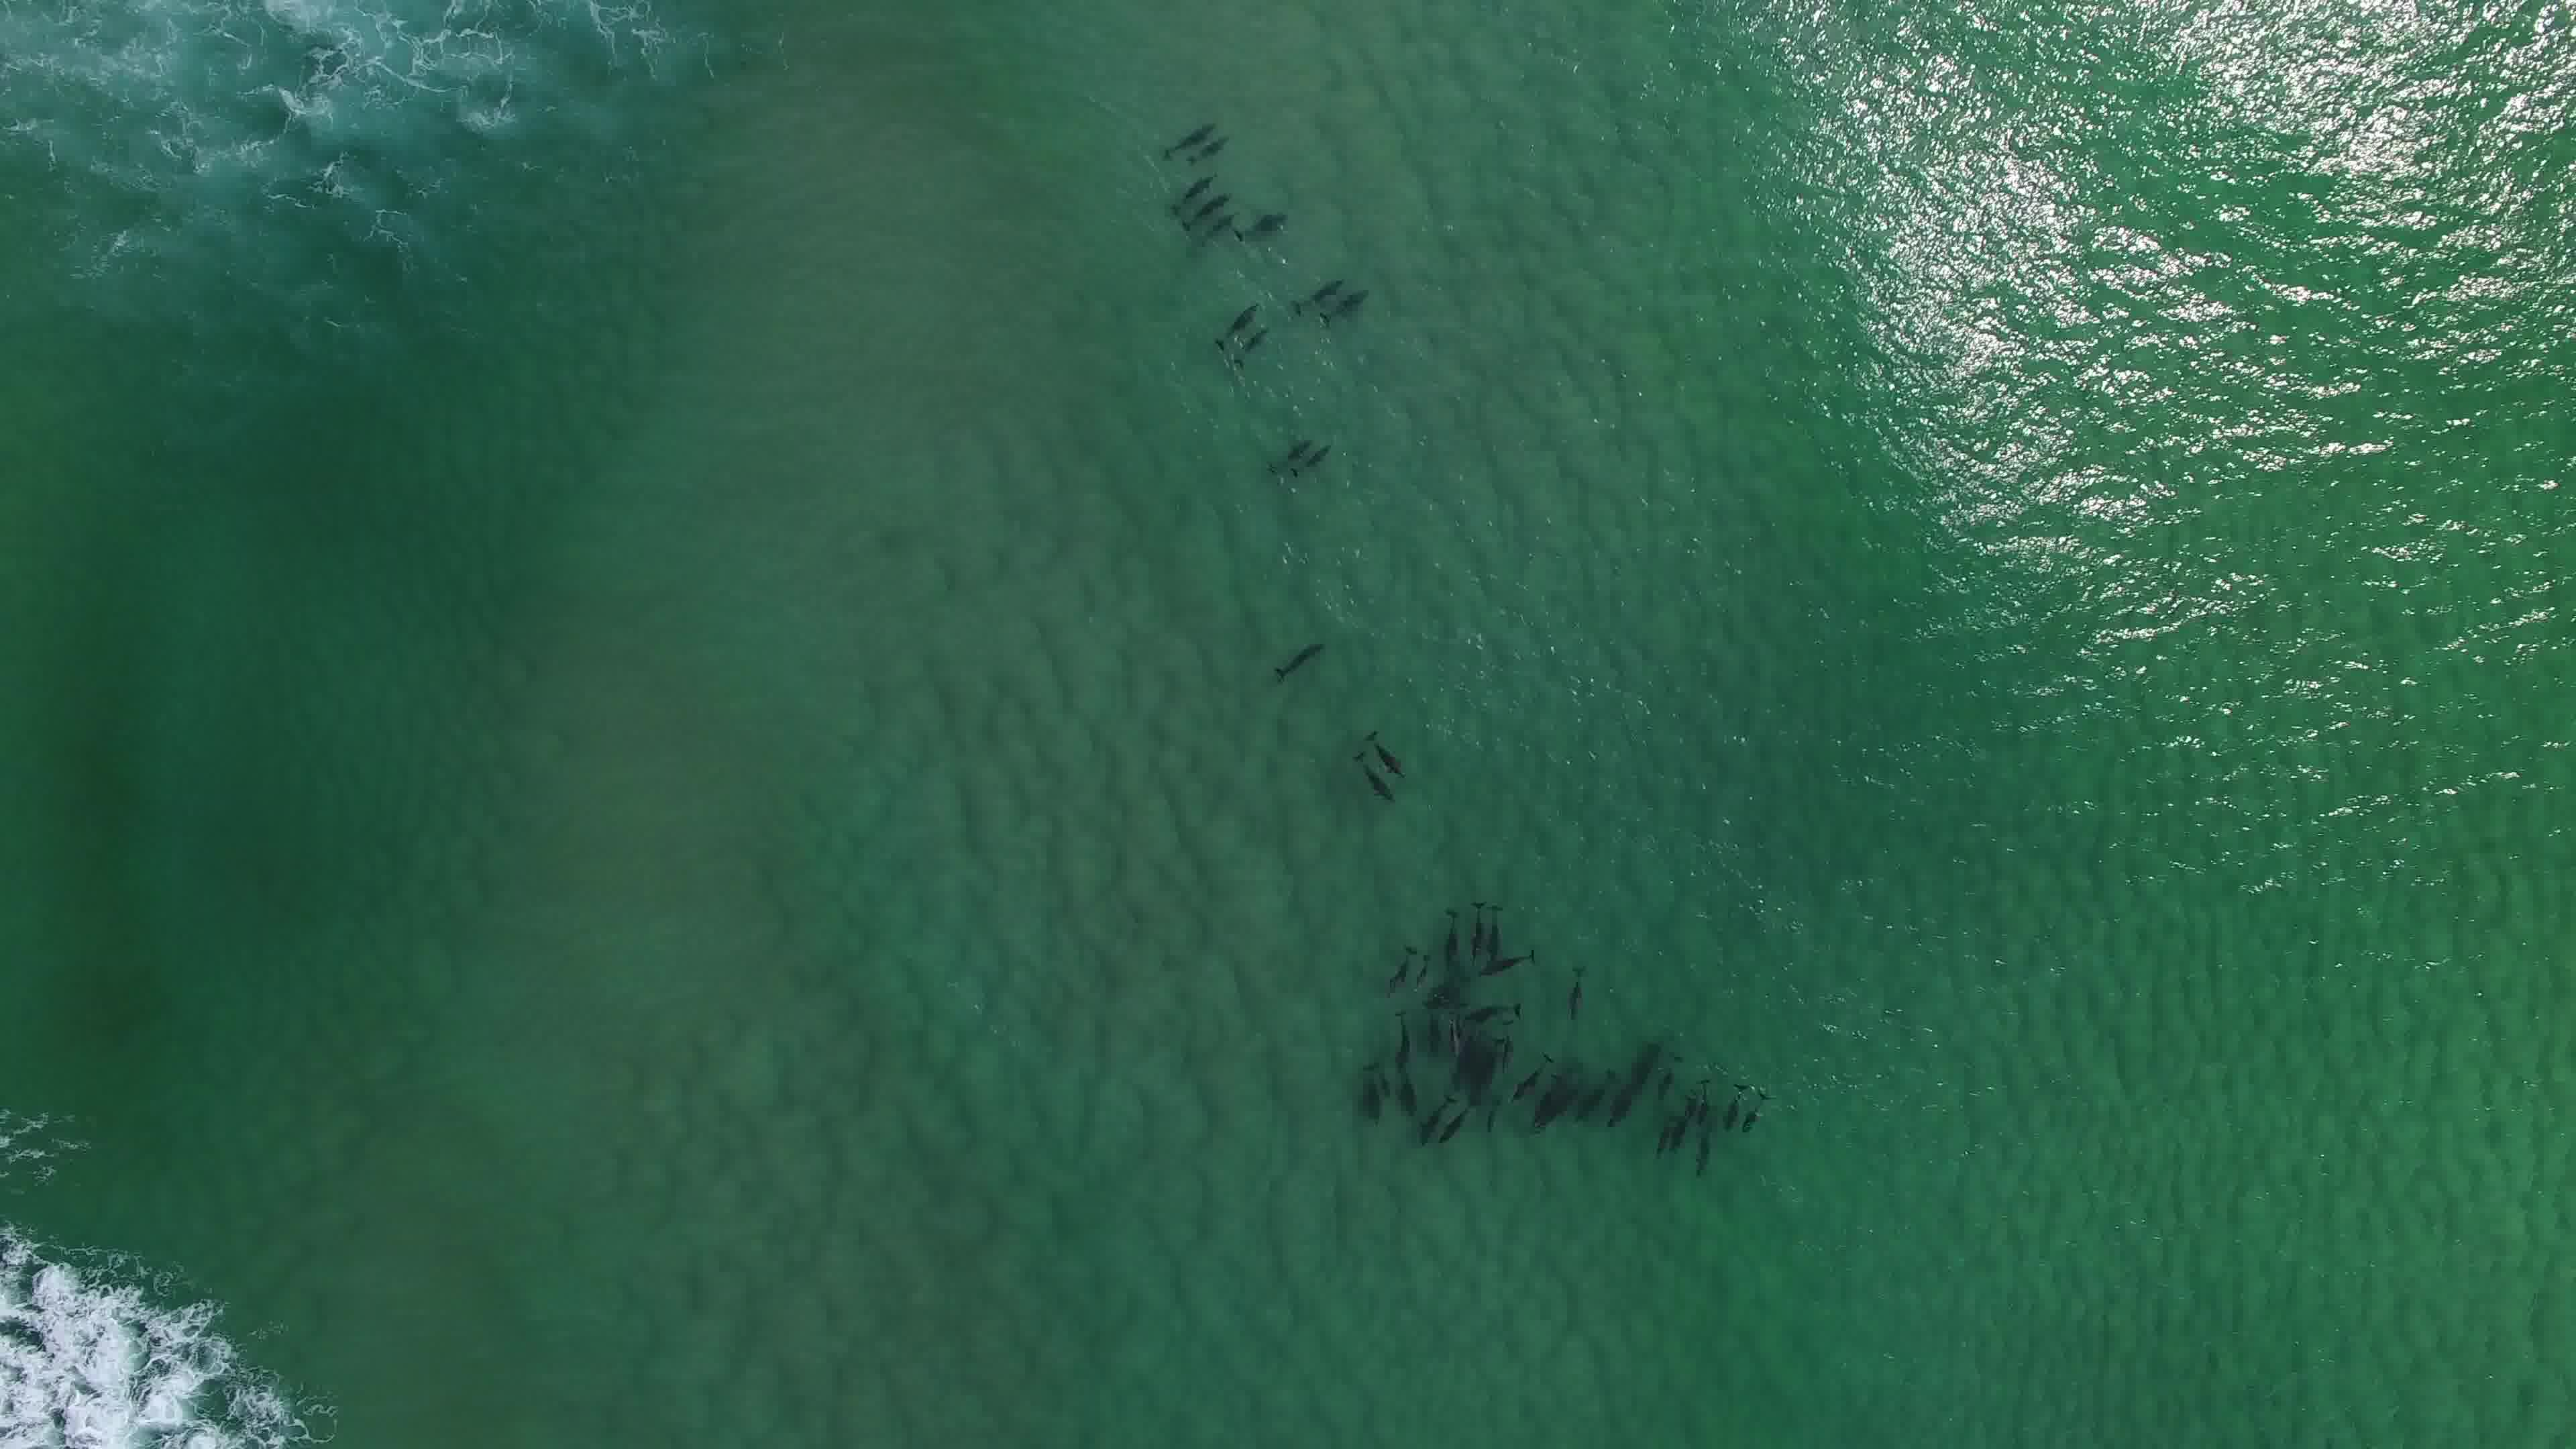dolphin: (1603, 1047, 1660, 1123), (1334, 743, 1396, 801), (1154, 108, 1219, 156), (1366, 936, 1417, 994), (1460, 991, 1527, 1033), (1361, 727, 1414, 780), (1534, 1063, 1575, 1132), (1201, 292, 1258, 341), (1270, 640, 1332, 685), (1477, 936, 1539, 980), (1506, 1047, 1562, 1095), (1578, 1065, 1622, 1118), (1315, 285, 1375, 324), (1230, 205, 1295, 241), (1161, 172, 1226, 207), (1408, 1092, 1458, 1138), (1560, 955, 1594, 1023), (1437, 1100, 1484, 1146), (1256, 430, 1307, 472), (1357, 1065, 1396, 1118), (1739, 1086, 1775, 1141), (1484, 893, 1509, 971), (1440, 901, 1470, 962), (1690, 1069, 1721, 1127), (1184, 133, 1238, 166), (1387, 1008, 1421, 1063), (1292, 269, 1343, 304), (1674, 1095, 1704, 1155), (1716, 1077, 1748, 1132), (1201, 209, 1244, 249), (1438, 1007, 1472, 1058), (1652, 1049, 1684, 1102), (1184, 189, 1231, 223), (1292, 444, 1341, 474), (1230, 326, 1265, 366), (1468, 895, 1490, 962), (1693, 1123, 1720, 1169), (1408, 952, 1435, 994), (1658, 1104, 1677, 1157)
